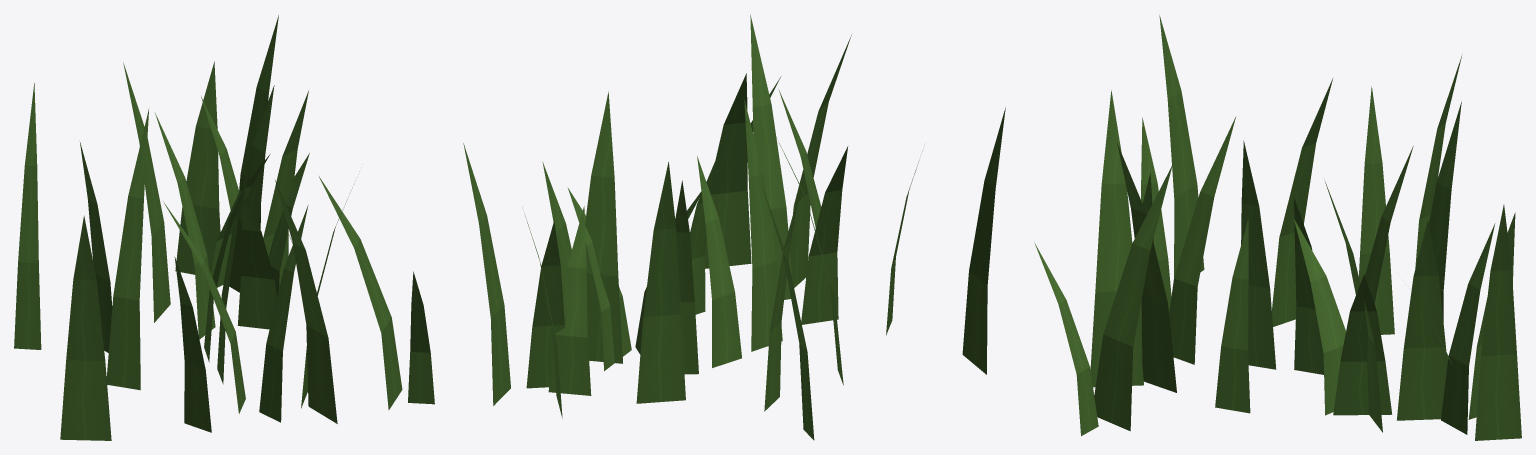
The model's file is veyra_frontier_grass_01.dae.
3 renders of one model, left to right at view 1: azimuth 30°, elevation 25°; view 2: azimuth 150°, elevation 25°; view 3: azimuth 270°, elevation 25°, orthographic. The views are drawn at different scales.
Visible parts, largest first — view 1: g0-node; view 2: g0-node; view 3: g0-node.
Part boxes in pixels (left/top/right/bottom): g0-node: left=14, top=15, right=434, bottom=440; g0-node: left=463, top=14, right=1005, bottom=440; g0-node: left=1034, top=15, right=1521, bottom=440.
Bounding box in the file's own units: 222 × 243 × 149.
